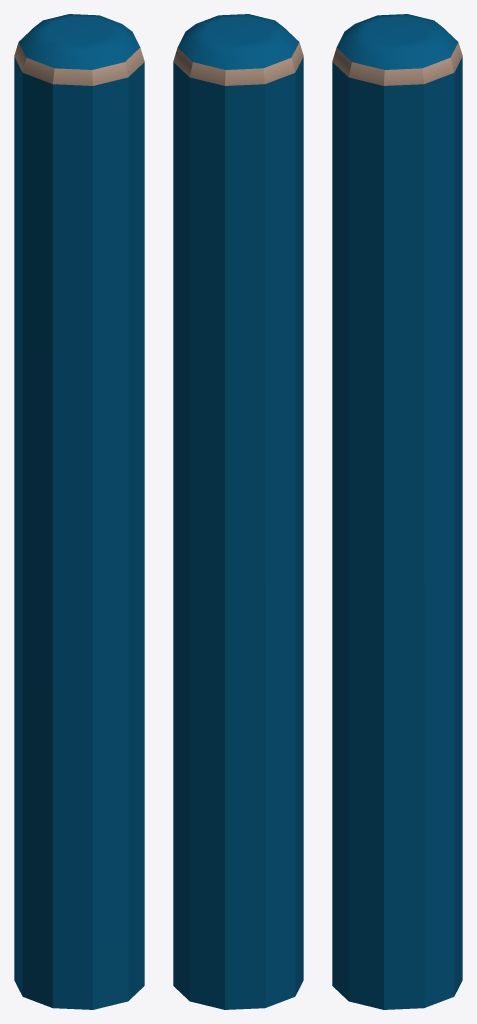
The model's file is E_Bollard2.fbx.
The picture shows the model from 3 angles, left to right: view 1: azimuth 30°, elevation 25°; view 2: azimuth 150°, elevation 25°; view 3: azimuth 330°, elevation 25°; orthographic projection.
Visible parts, largest first — view 1: hp_bollard02; view 2: hp_bollard02; view 3: hp_bollard02.
Part boxes in pixels (x1,y1,x2,y2): hp_bollard02: (14, 14, 144, 1009); hp_bollard02: (173, 14, 303, 1009); hp_bollard02: (332, 14, 462, 1009).
Bounding box in the file's own units: 10 × 80 × 9.51.
